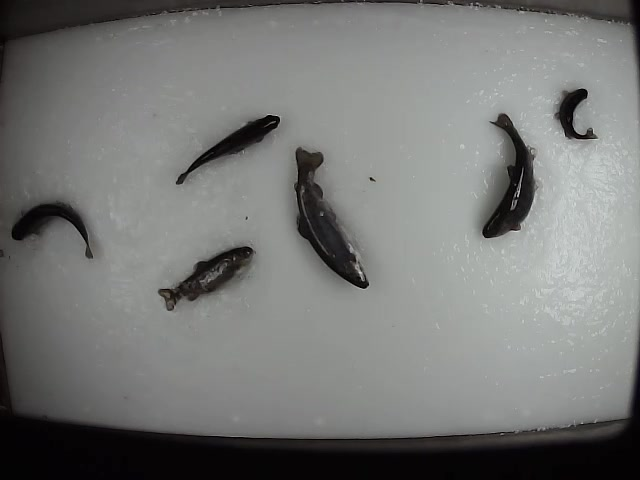fish: (289, 146, 371, 290), (478, 108, 541, 238), (174, 113, 280, 186), (156, 240, 257, 312), (8, 198, 95, 262), (552, 86, 600, 141)
